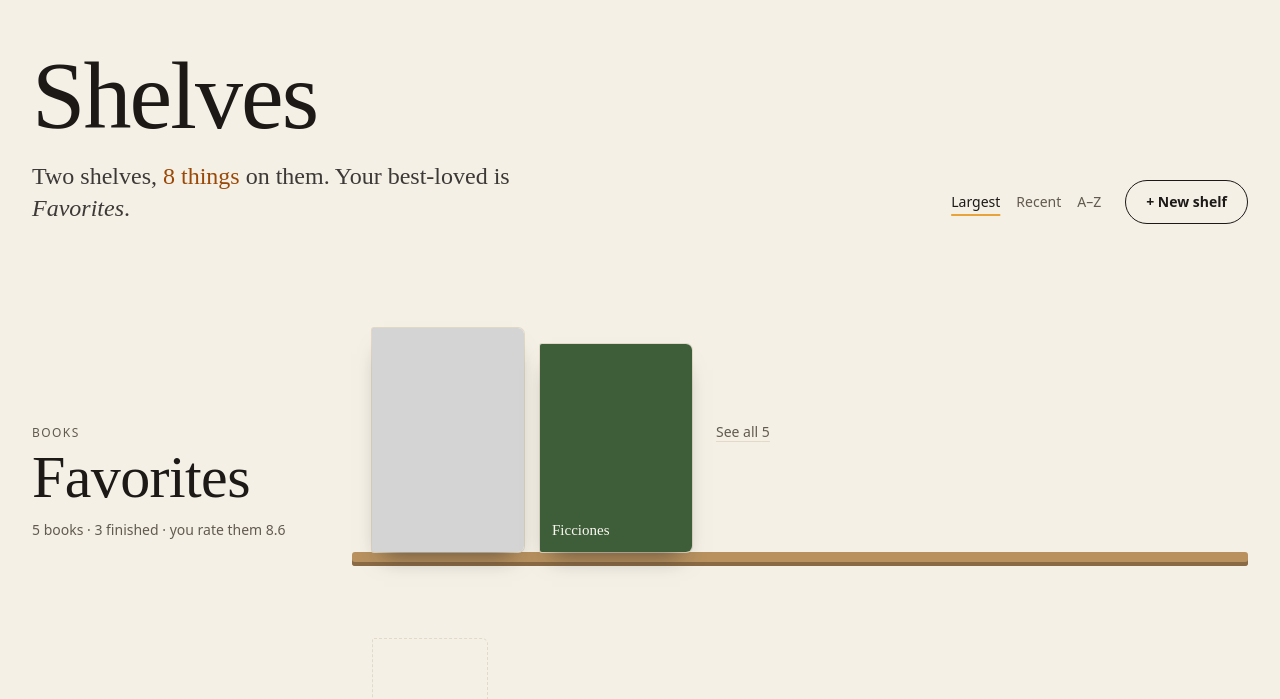
ShelvesPage › surfaces duplicate slug errors
The width and height of the screenshot is (1280, 699).
Expected: the link "Favorites" is shown, left=32, top=444, right=250, bottom=510
Click the button "+ New shelf".
click(1187, 202)  # box left=1125, top=180, right=1248, bottom=224
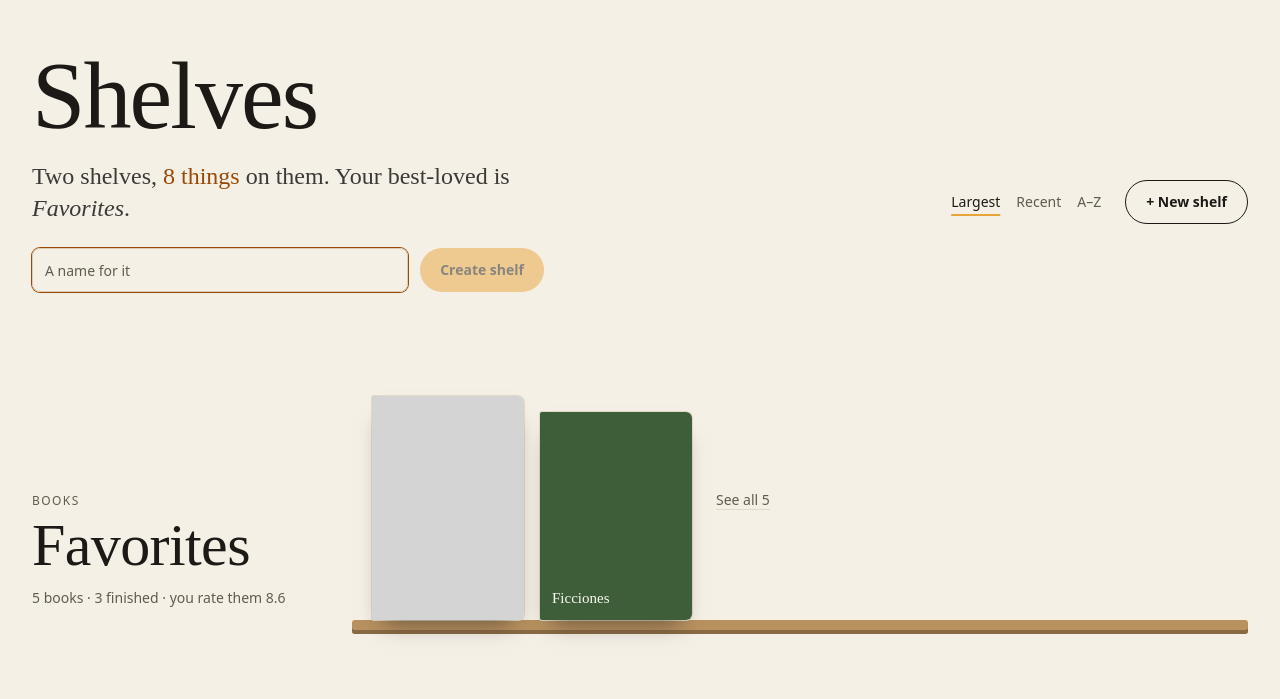
Type "Favorites" into the field named "New shelf name".
click(220, 270); type("Favorites")  # box left=32, top=248, right=408, bottom=292
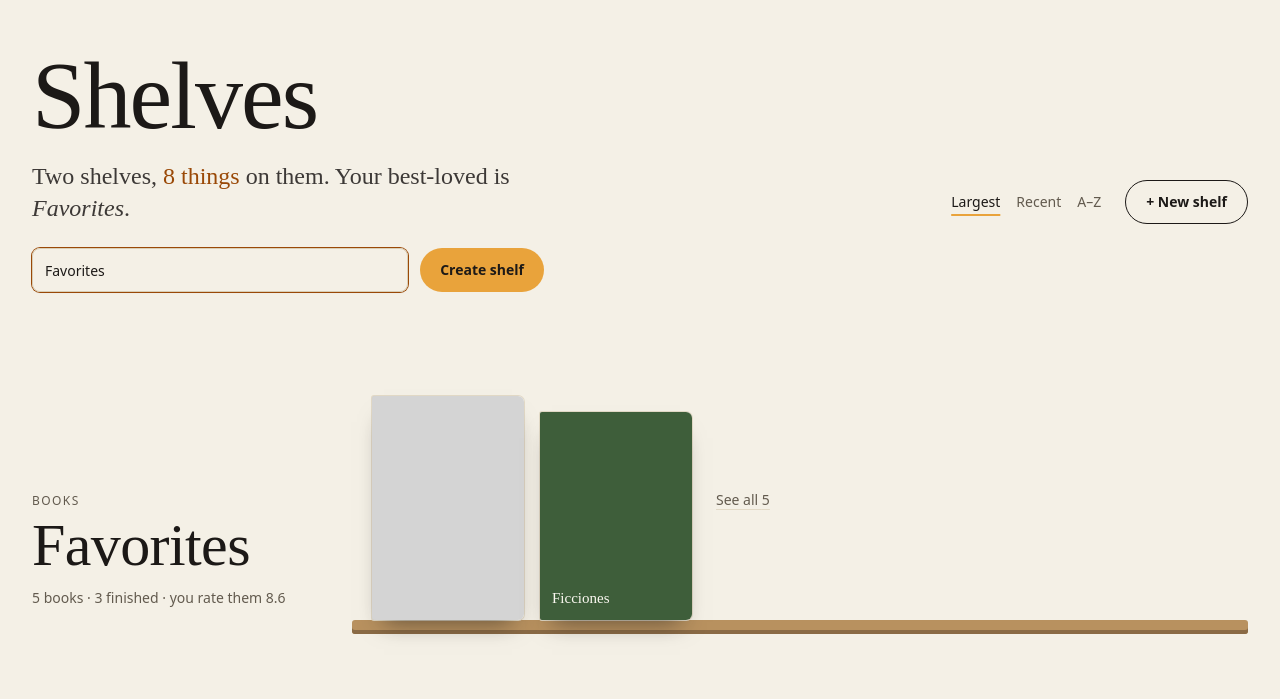
Click the button "Create shelf".
click(482, 270)  # box left=420, top=248, right=544, bottom=292
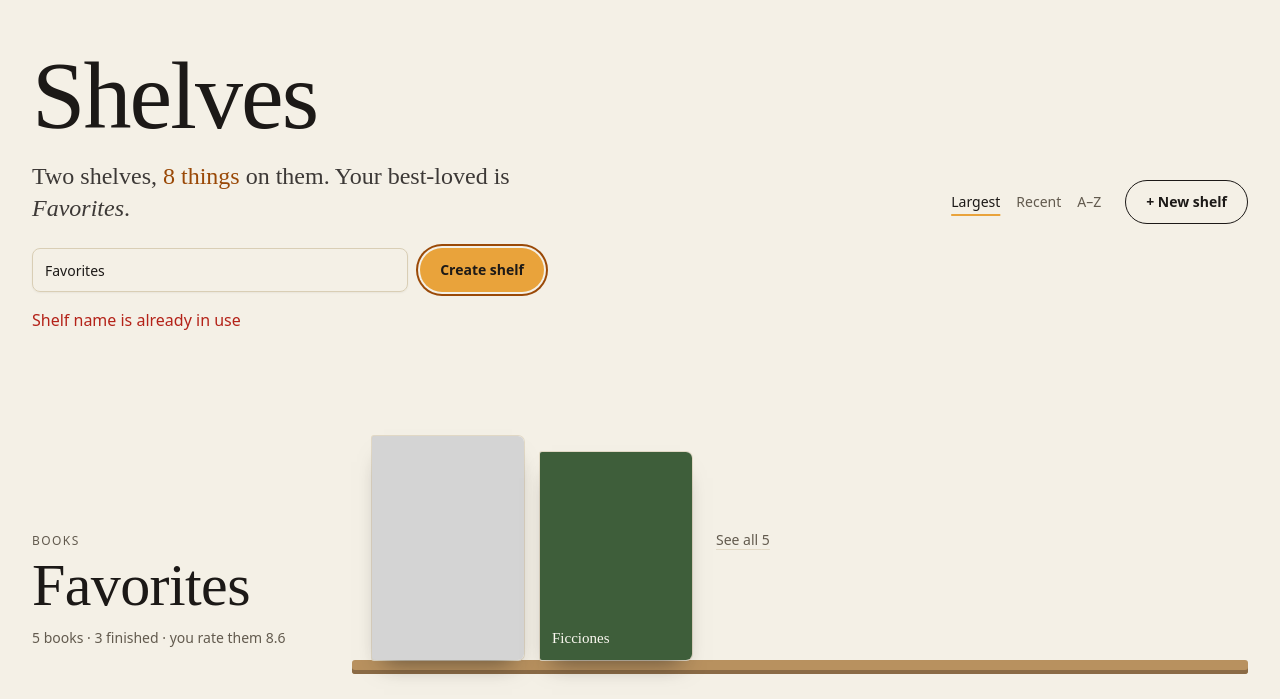
Result: the message reads "Shelf name is already in use" at left=32, top=309, right=241, bottom=331
